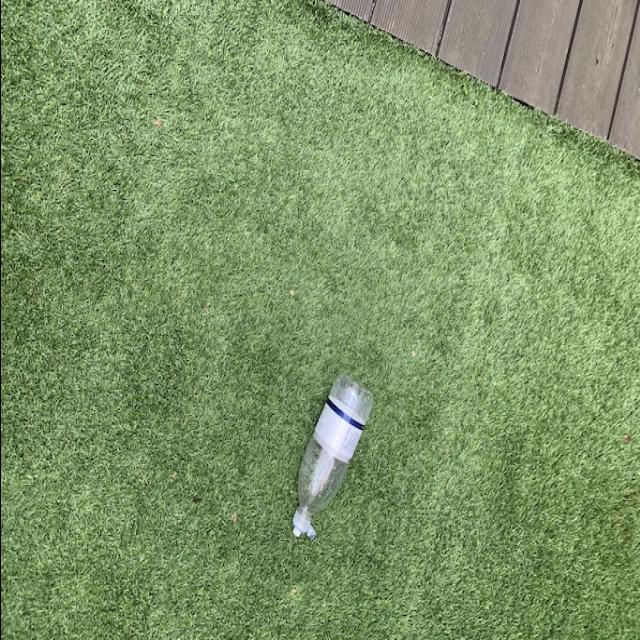PET: (288, 367, 374, 545)
